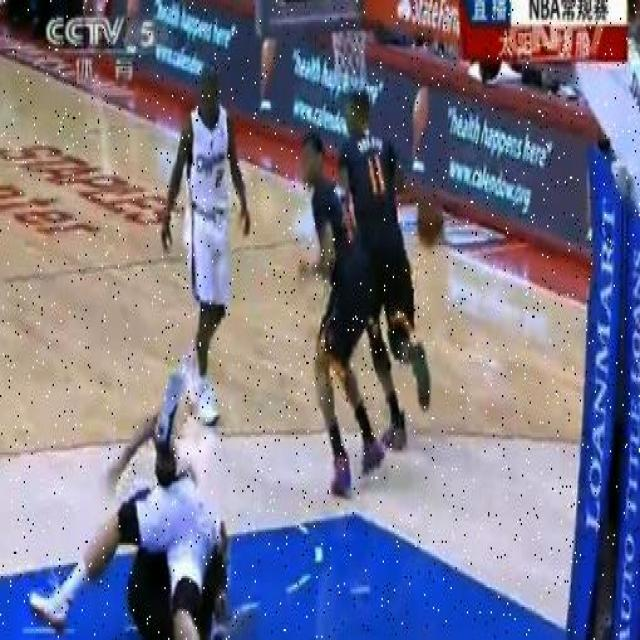fall: (75, 393, 237, 638)
